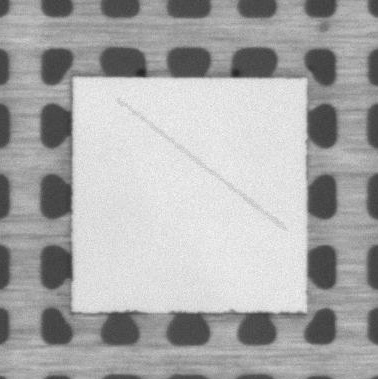DIE_CRACK: (119, 100, 285, 230)
